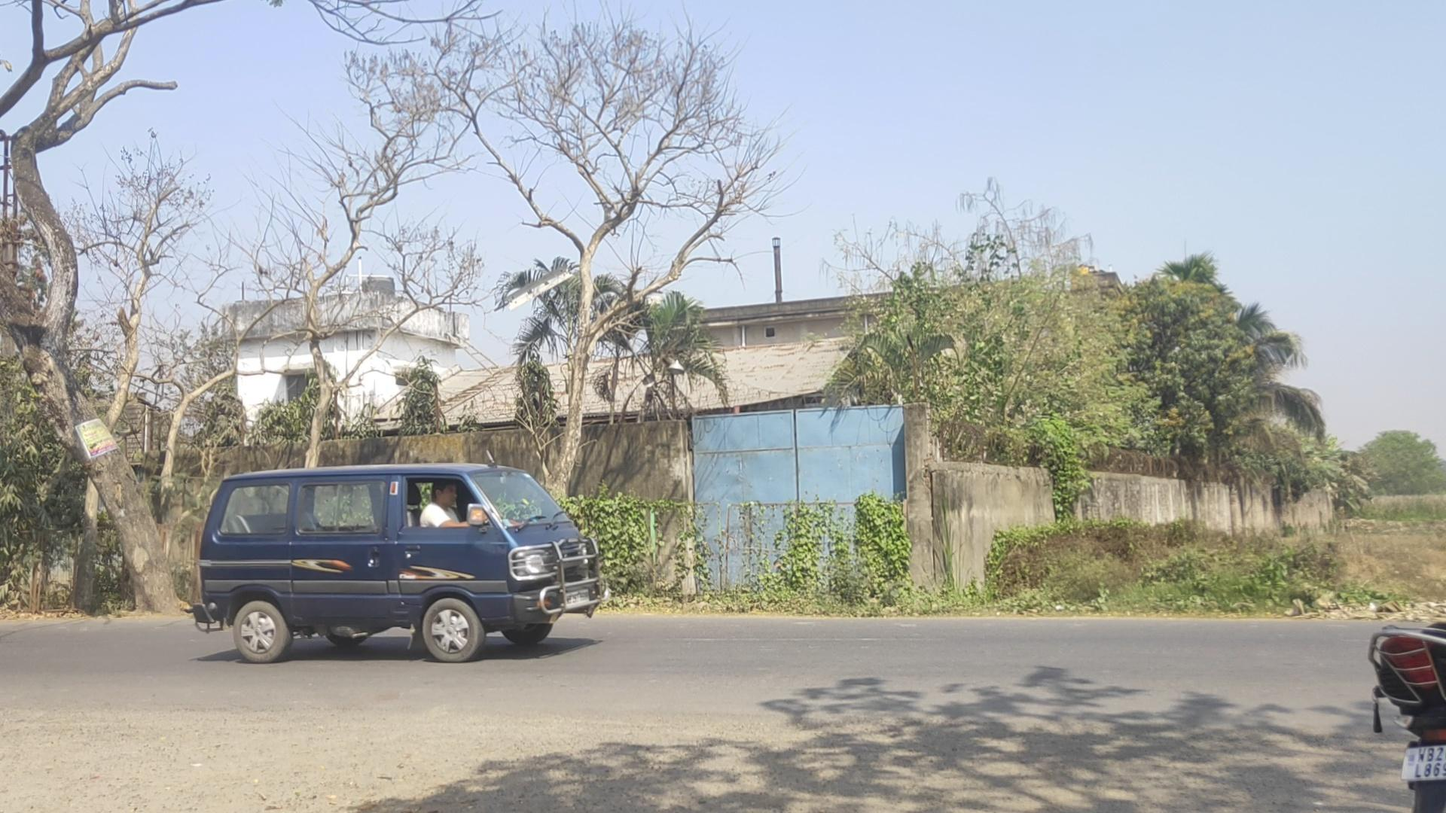van: (192, 461, 609, 665)
